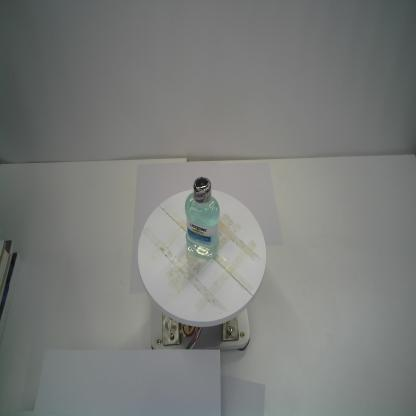Personal Hygiene: (183, 175, 221, 260)
